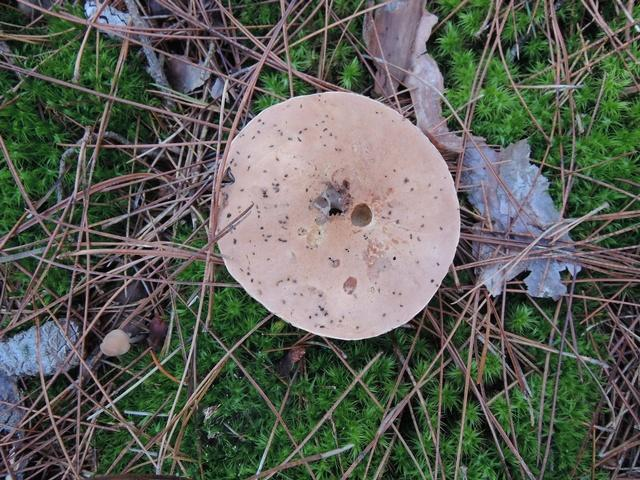Non-edible Mushroom: (212, 90, 461, 341)
